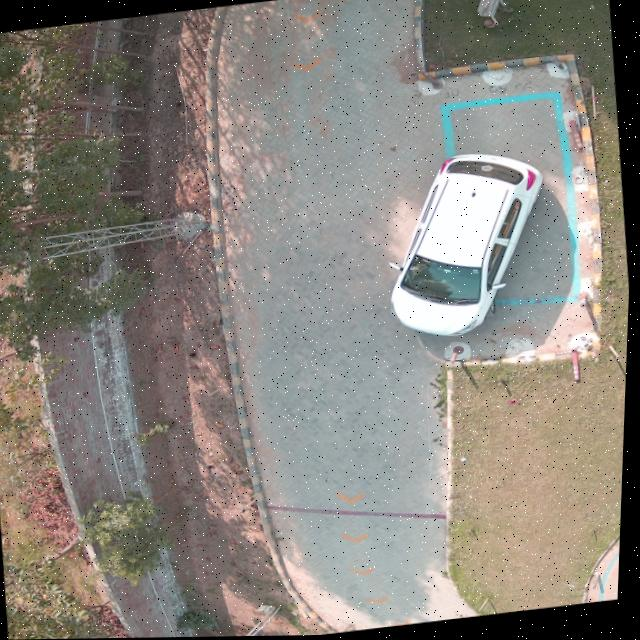car: (393, 153, 544, 336)
